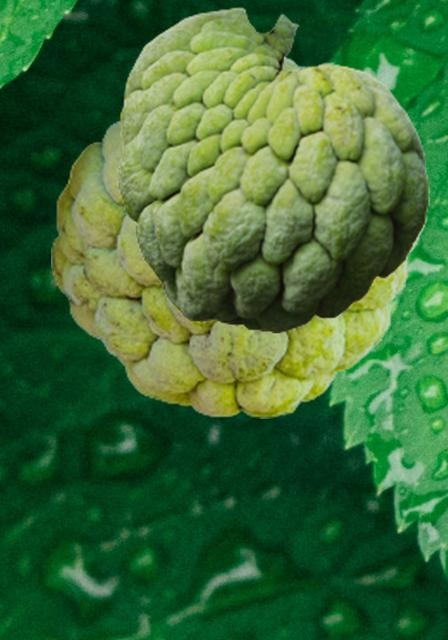atis: (51, 54, 425, 417), (117, 6, 428, 333)
